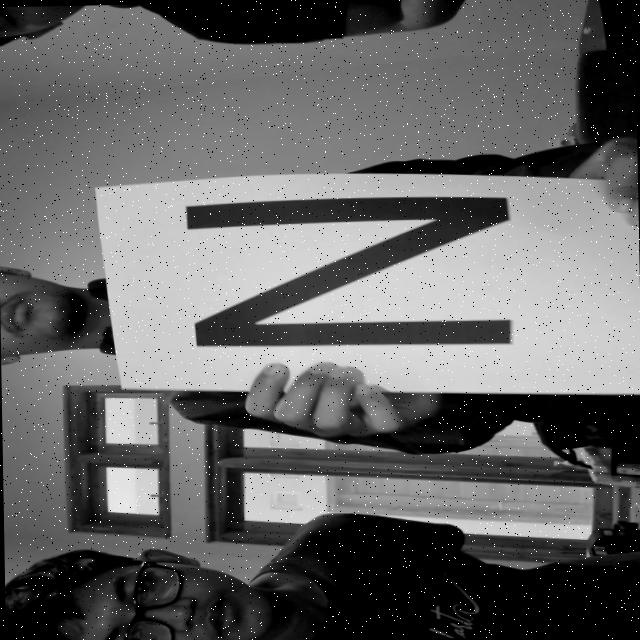n: (181, 186, 534, 358)
